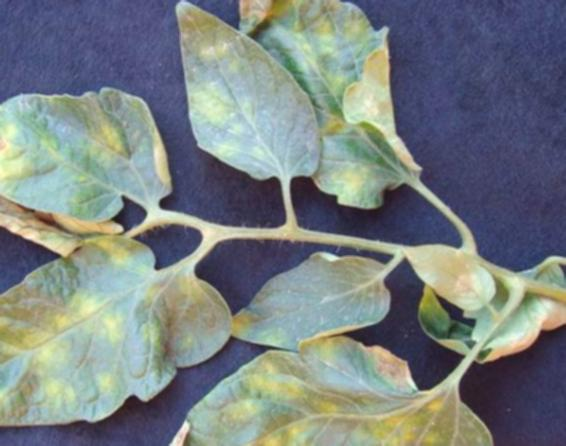Tomato mold leaf: (0, 239, 231, 438), (226, 0, 447, 207), (136, 332, 508, 446), (161, 0, 347, 186), (0, 77, 179, 221), (211, 254, 419, 352), (387, 234, 514, 318)
